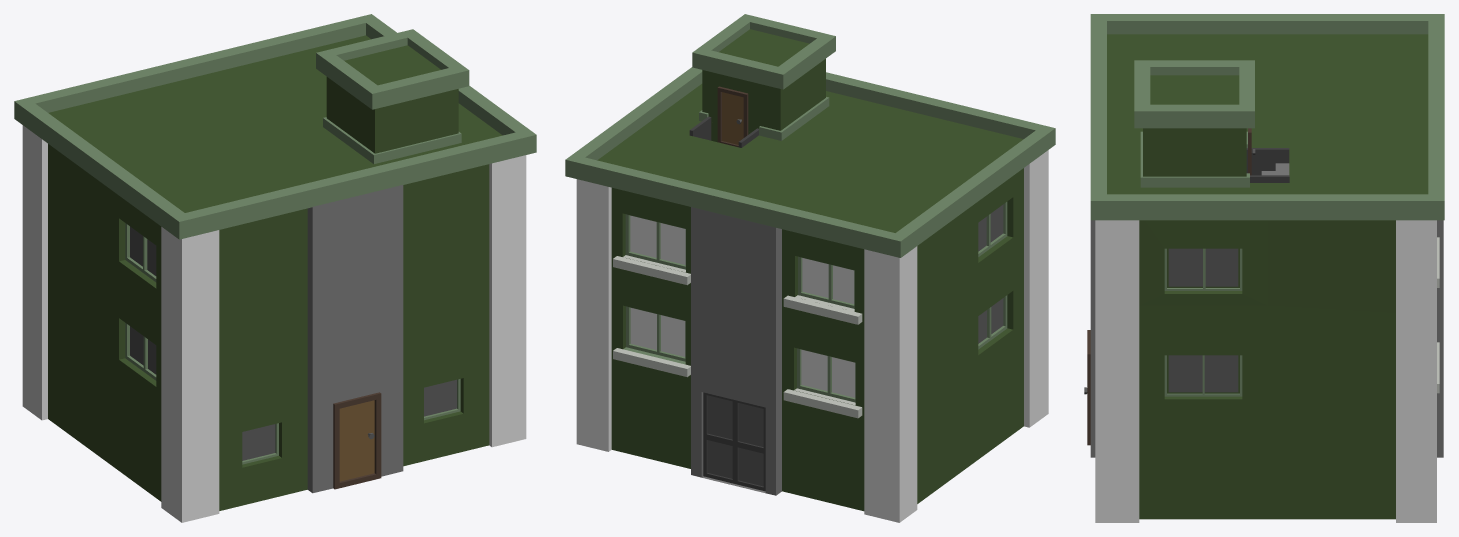
File: Building D Green.fbx
3 views of the same model, side by side, from view 1: azimuth 30°, elevation 25°; view 2: azimuth 150°, elevation 25°; view 3: azimuth 270°, elevation 25° (orthographic). The views are drawn at different scales.
Visible parts, largest first — view 1: Building D Green.001; view 2: Building D Green.001; view 3: Building D Green.001.
Part boxes in pixels (x1,y1,x2,y2): Building D Green.001: (14,14,536,522); Building D Green.001: (565,14,1055,522); Building D Green.001: (1084,14,1444,522).
Bounding box in the file's own units: 1121 × 912 × 1094.
